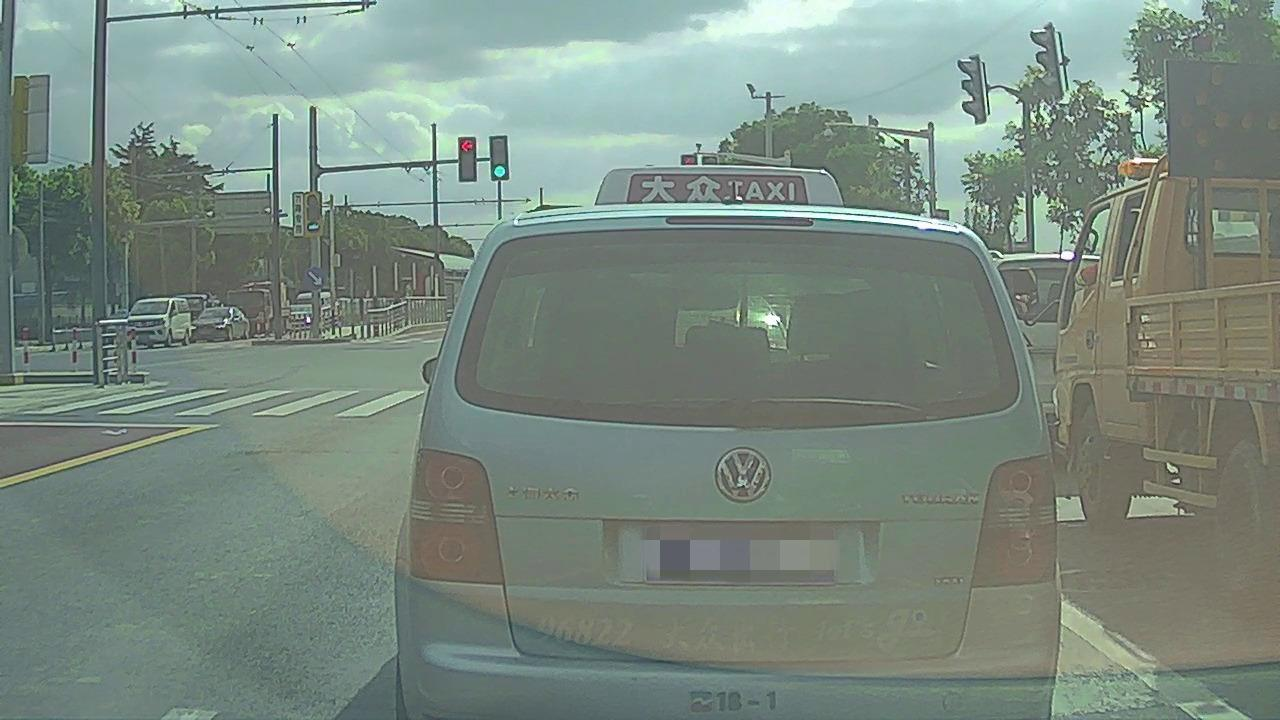traffic_light: (489, 134, 508, 180), (459, 137, 478, 181)
